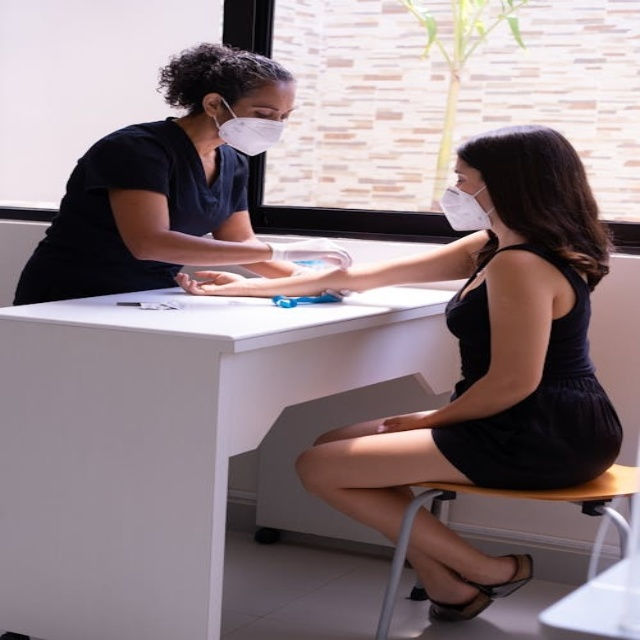Guantes: (263, 237, 353, 272)
Mascara: (212, 97, 287, 156), (438, 182, 496, 231)
Sin_gafas: (241, 100, 300, 118), (443, 164, 484, 186)
Sin_guantes: (169, 264, 256, 300), (369, 401, 436, 438)
